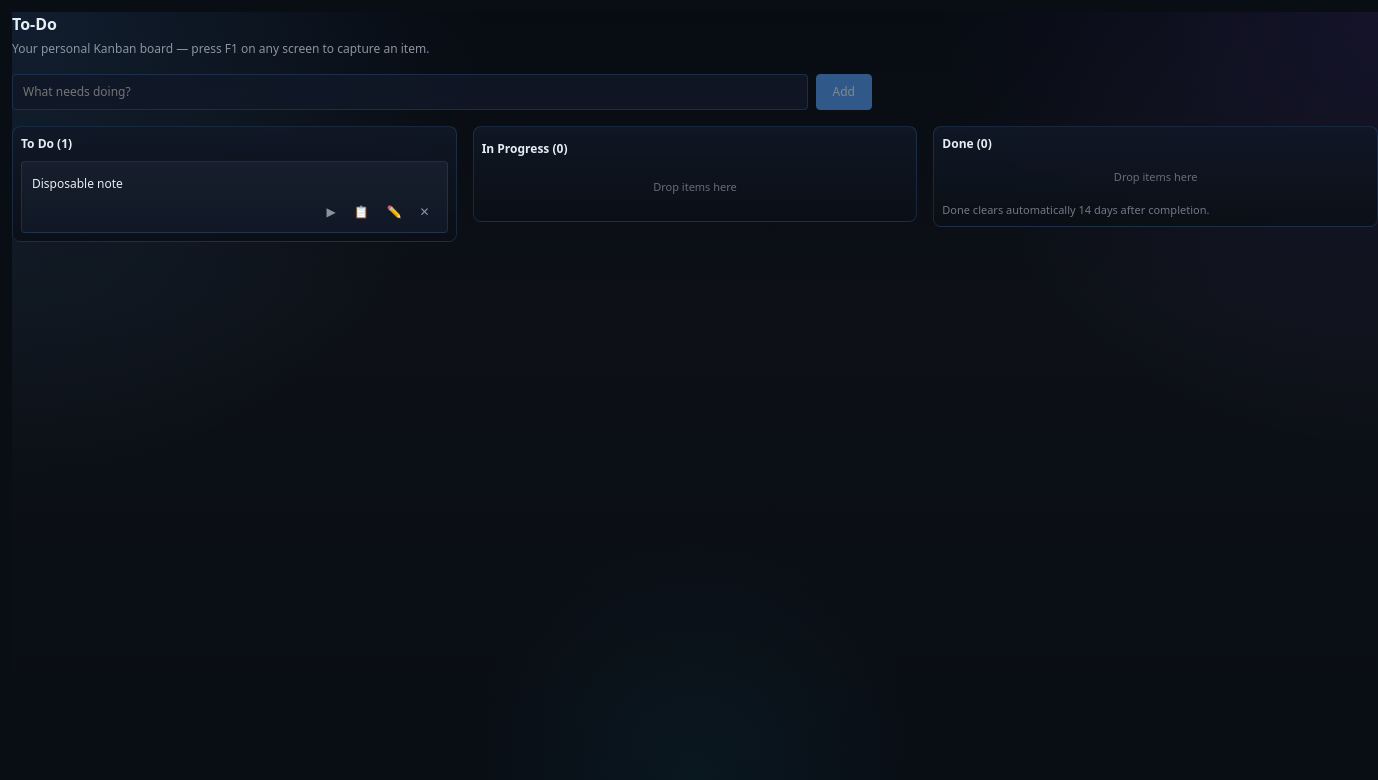
Test: TodoTab › deletes a single card
The width and height of the screenshot is (1378, 780).
Click the button named "delete \"disposable note\"". click: (425, 212)
box: 413,200 -> 437,224
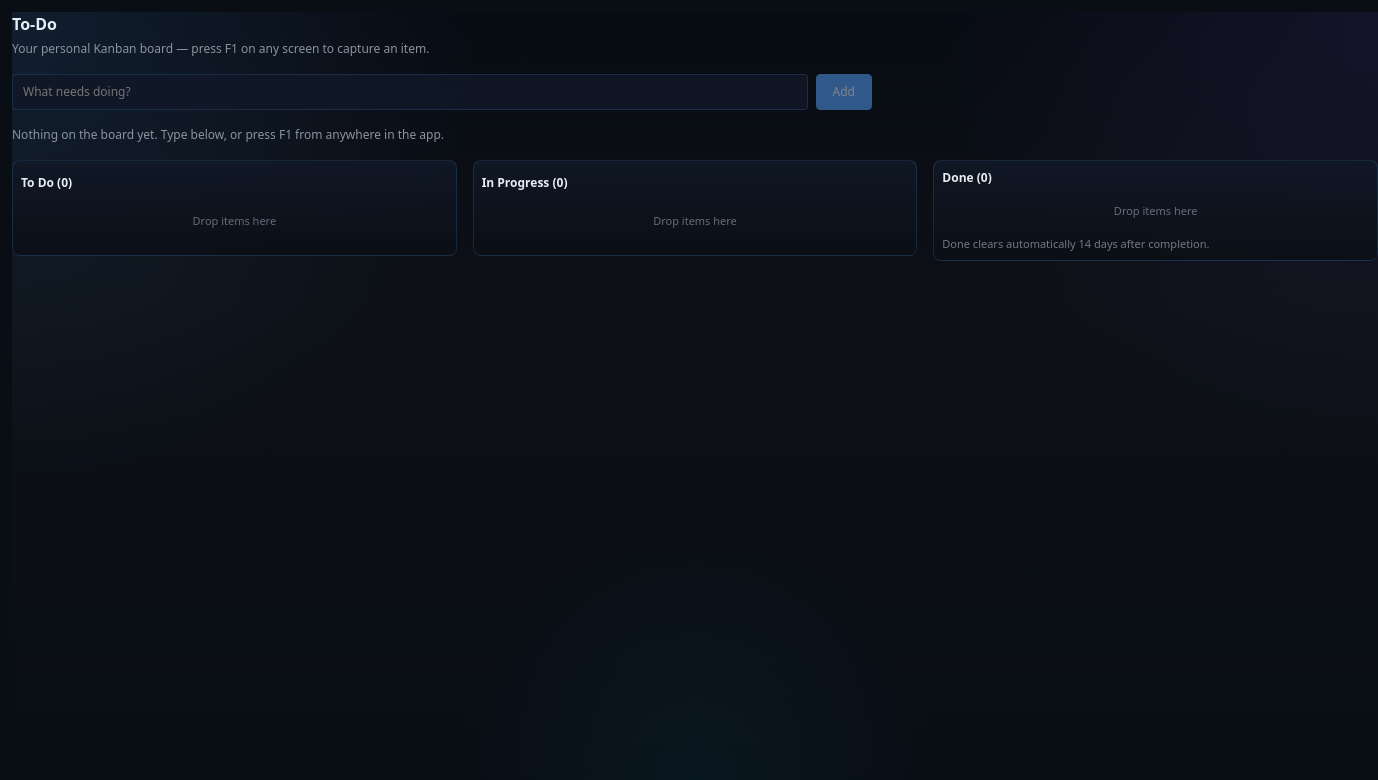
Check: the button "Disposable note" is gone
